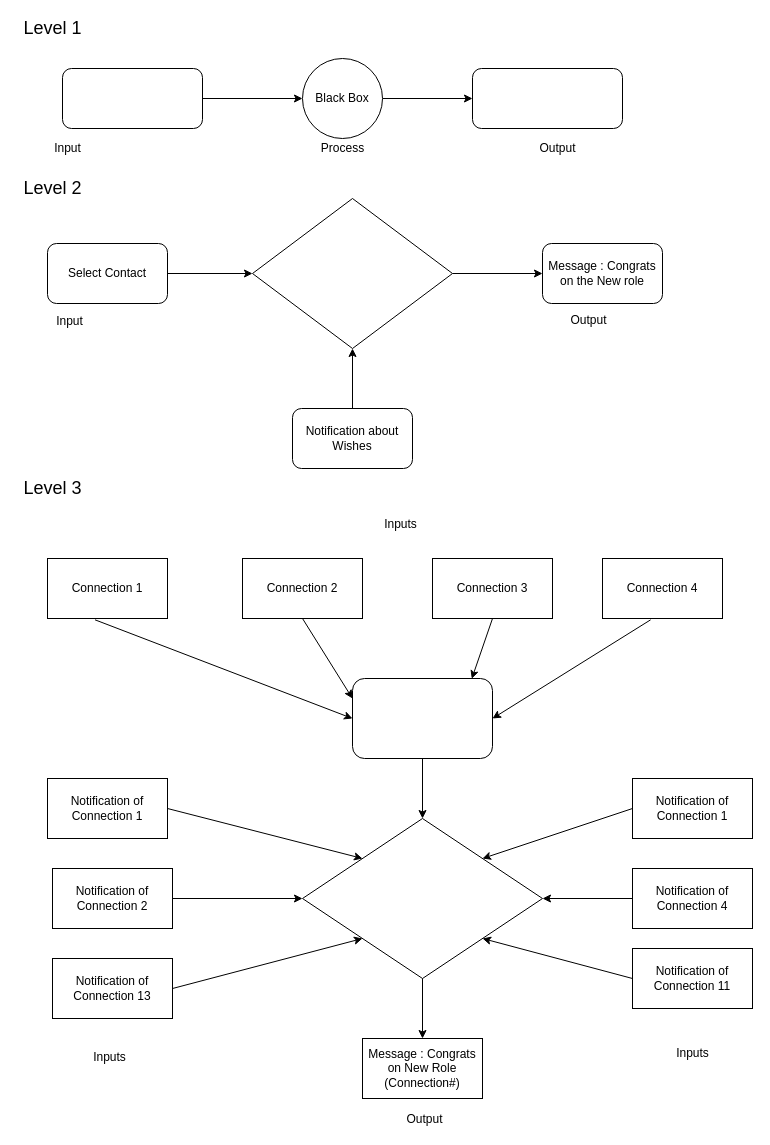
This 770x1145 diagram has some shape labels left out. Here are the shapes that lost their labels. From the top down, the centre of each, then its label:
(132,98): Select Contacts
(547,98): Output Wishes
(352,273): if Notification = Selected contact
(422,718): Selected list of Connections
(422,898): if Notification( Selected List of Connections)
